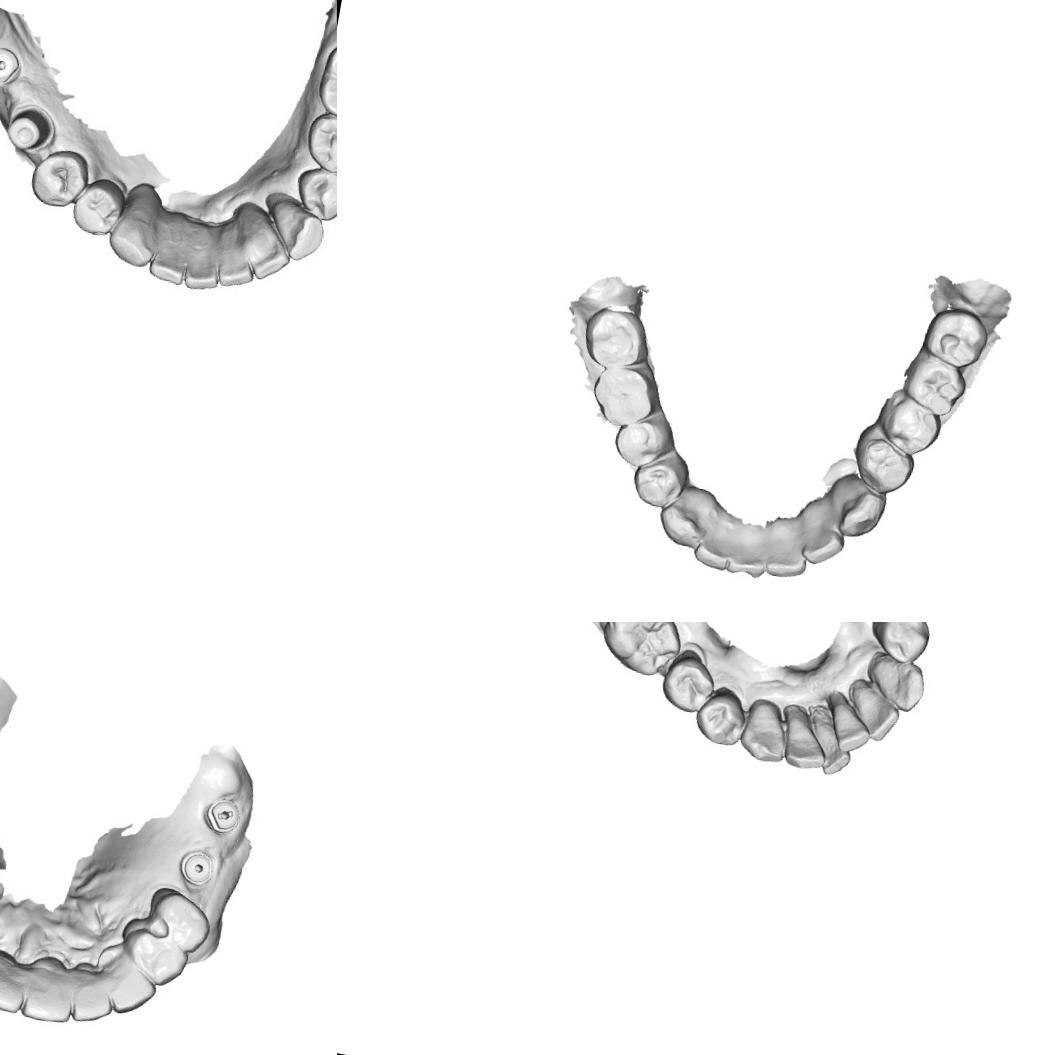abutment: (0, 101, 55, 159)
canine: (259, 196, 334, 264), (824, 471, 891, 546), (652, 486, 716, 552), (864, 654, 931, 716), (98, 954, 161, 1019), (734, 698, 793, 766), (107, 199, 162, 271)
implant: (175, 846, 216, 888), (0, 39, 26, 89)
implant_minus: (201, 793, 244, 837)
incisor: (226, 202, 298, 284), (209, 219, 264, 294), (145, 210, 199, 286), (18, 960, 78, 1026), (180, 216, 229, 296), (842, 683, 904, 745), (777, 712, 833, 774), (804, 717, 858, 780), (64, 970, 118, 1028), (824, 698, 877, 757), (724, 530, 772, 581), (798, 522, 848, 570), (762, 536, 810, 584), (691, 527, 736, 573), (0, 955, 29, 1015)
molar: (584, 358, 664, 431), (578, 300, 656, 374), (595, 622, 689, 681), (899, 350, 969, 420), (919, 302, 988, 370), (312, 35, 337, 128)
premolar: (872, 389, 946, 460), (26, 140, 96, 213), (144, 888, 216, 958), (850, 432, 918, 499), (627, 446, 693, 514), (654, 651, 720, 717), (123, 930, 192, 992), (607, 412, 674, 475), (68, 170, 126, 241), (690, 684, 751, 750), (863, 622, 934, 666), (299, 105, 337, 182), (293, 163, 337, 225)
